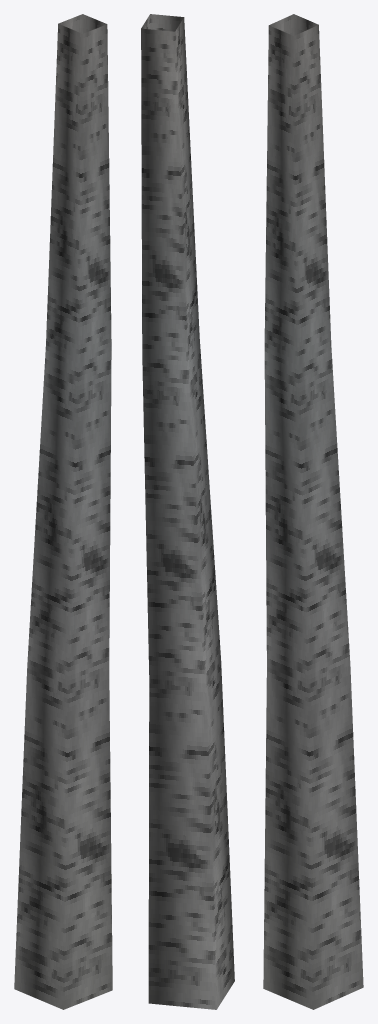
Rendered from bulb_tree_bark_l2.gltf.
3 views of the same model, side by side, from view 1: azimuth 90°, elevation 25°; view 2: azimuth 210°, elevation 25°; view 3: azimuth 270°, elevation 25° (orthographic).
Parts seen in each view (by area): view 1: bulb_tree_bark_l2; view 2: bulb_tree_bark_l2; view 3: bulb_tree_bark_l2.
Boxes of the visible parts, x1,y1,x2,y2 form: bulb_tree_bark_l2: (14,14,112,1009); bulb_tree_bark_l2: (141,14,234,1009); bulb_tree_bark_l2: (263,14,363,1009).
Bounding box in the file's own units: 0.315 × 3.38 × 0.315.
1 material, 1 textured.
